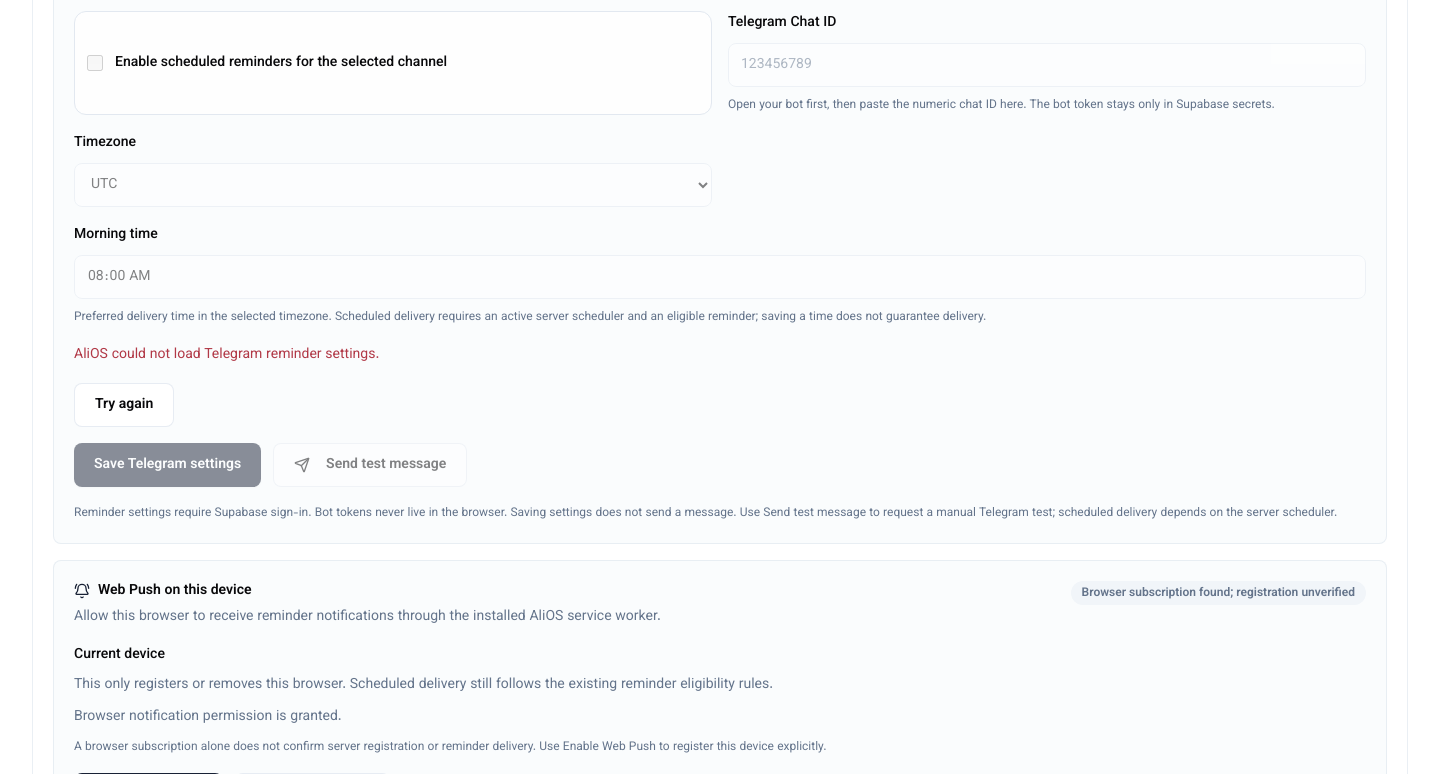
real Settings Notifications integration › retries a failed initial read without allowing a default overwrite
(page scrolled)
expect the button "Save Telegram settings" is disabled: met, box [74,443,261,487]
Click the button "Try again": coordinates (124, 405) [74,383,174,427]
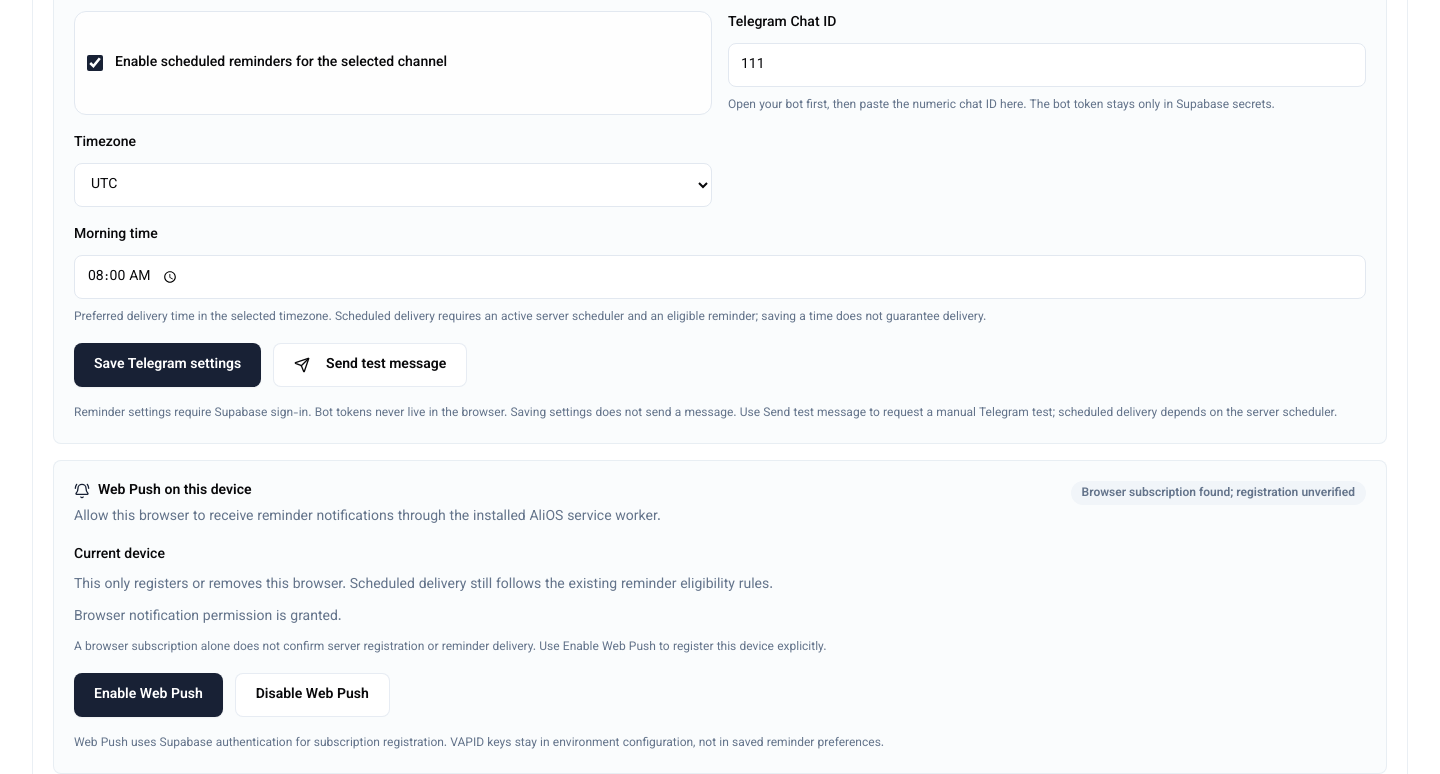
expect the field holds "111": met, box [728,43,1366,87]
